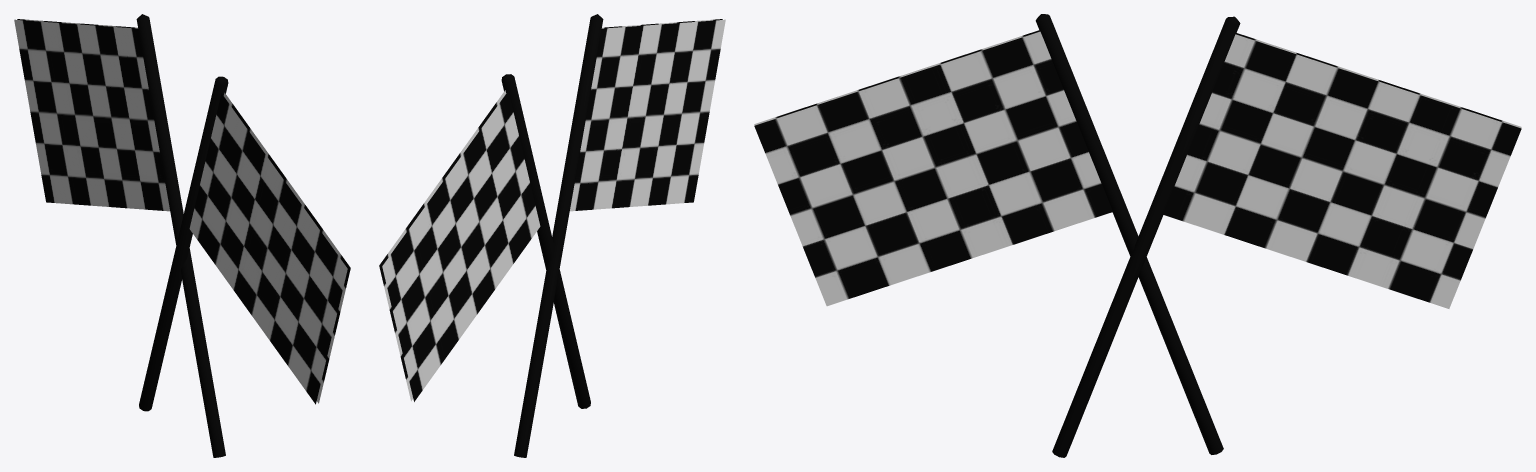
File: Flags.fbx
3 renders of one model, left to right at view 1: azimuth 30°, elevation 25°; view 2: azimuth 150°, elevation 25°; view 3: azimuth 270°, elevation 25°, orthographic. The views are drawn at different scales.
Parts seen in each view (by area): view 1: Flags.001; view 2: Flags.001; view 3: Flags.001.
Part boxes in pixels (left/top/right/bottom): Flags.001: left=14, top=14, right=350, bottom=457; Flags.001: left=379, top=14, right=725, bottom=457; Flags.001: left=754, top=14, right=1521, bottom=457.
Size of the model in its own units: 4.33 by 0.1235 by 2.74.
